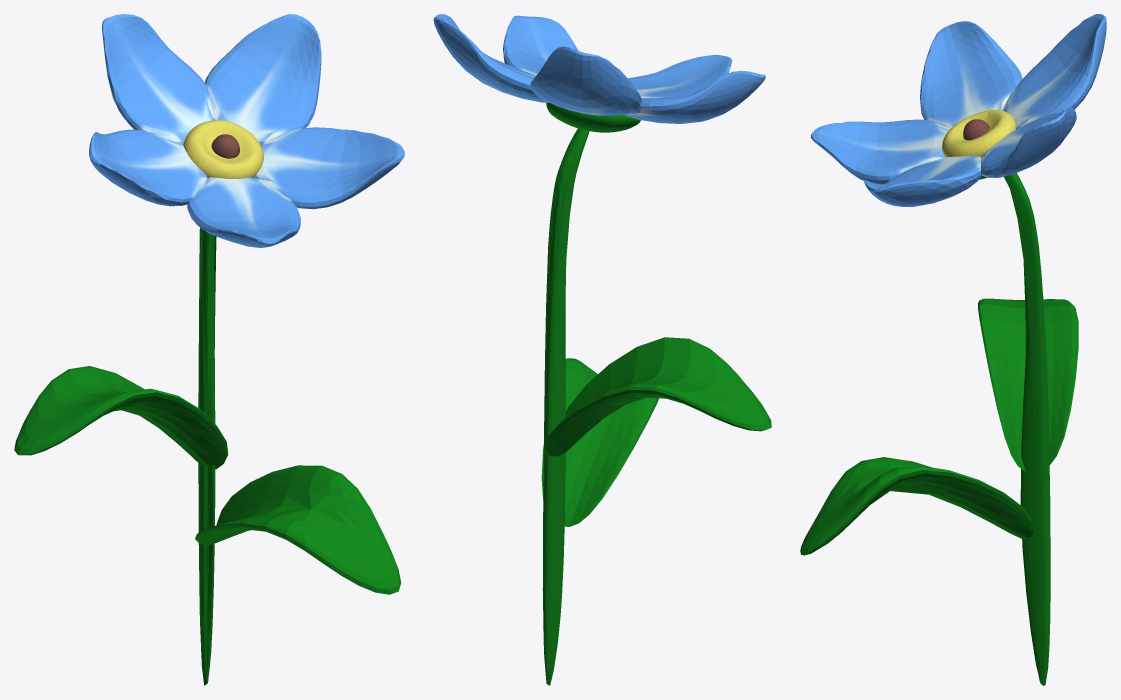
The model's file is Sadness_mmc.glb.
The picture shows the model from 3 angles, left to right: view 1: azimuth 30°, elevation 25°; view 2: azimuth 150°, elevation 25°; view 3: azimuth 270°, elevation 25°; orthographic projection. The views are drawn at different scales.
Visible parts, largest first — view 1: Cube.002; view 2: Cube.002; view 3: Cube.002.
Part boxes in pixels (x1=…): Cube.002: x1=14, y1=14, x2=404, y2=685; Cube.002: x1=433, y1=14, x2=771, y2=685; Cube.002: x1=800, y1=14, x2=1106, y2=685.
Size of the model in its own units: 4.05 by 8.05 by 3.49.
Materials: 4 (1 with a texture image).
